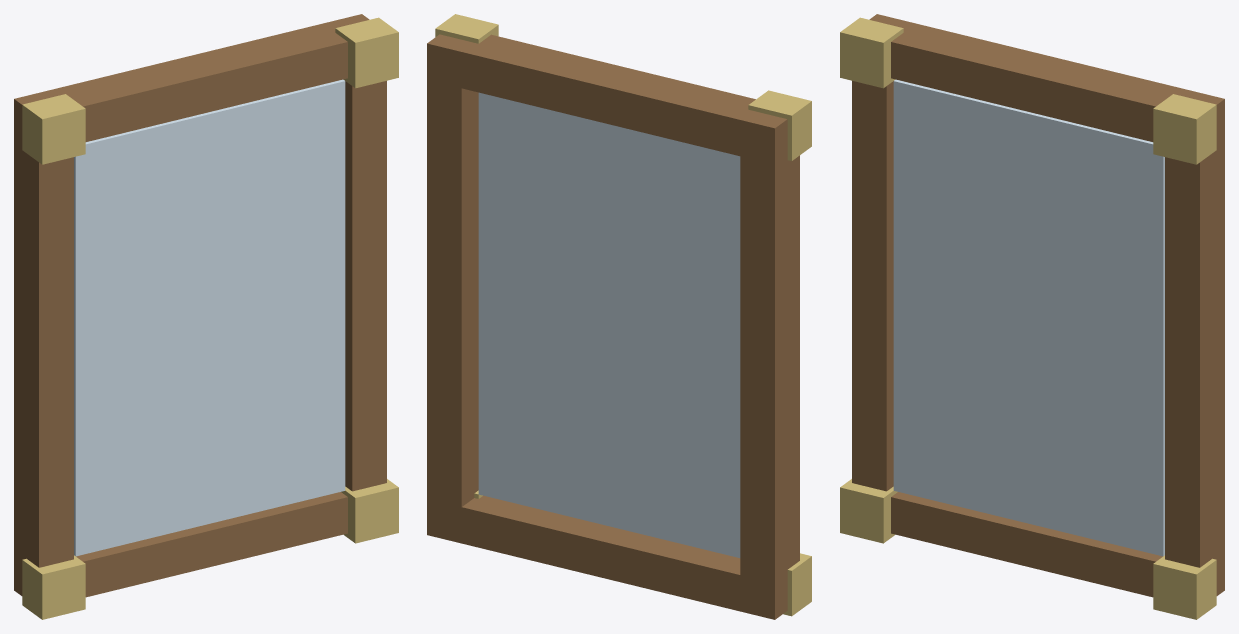
File: built-framed-mirror.glb
3 views of the same model, side by side, from view 1: azimuth 30°, elevation 25°; view 2: azimuth 150°, elevation 25°; view 3: azimuth 330°, elevation 25° (orthographic).
Visible parts, largest first — view 1: built-framed-mirror; view 2: built-framed-mirror; view 3: built-framed-mirror.
Boxes of the visible parts, bbox=[...] form: built-framed-mirror: bbox=[14, 14, 398, 619]; built-framed-mirror: bbox=[427, 14, 811, 619]; built-framed-mirror: bbox=[840, 14, 1224, 619].
Size of the model in its own units: 0.82 by 1.1 by 0.13.
